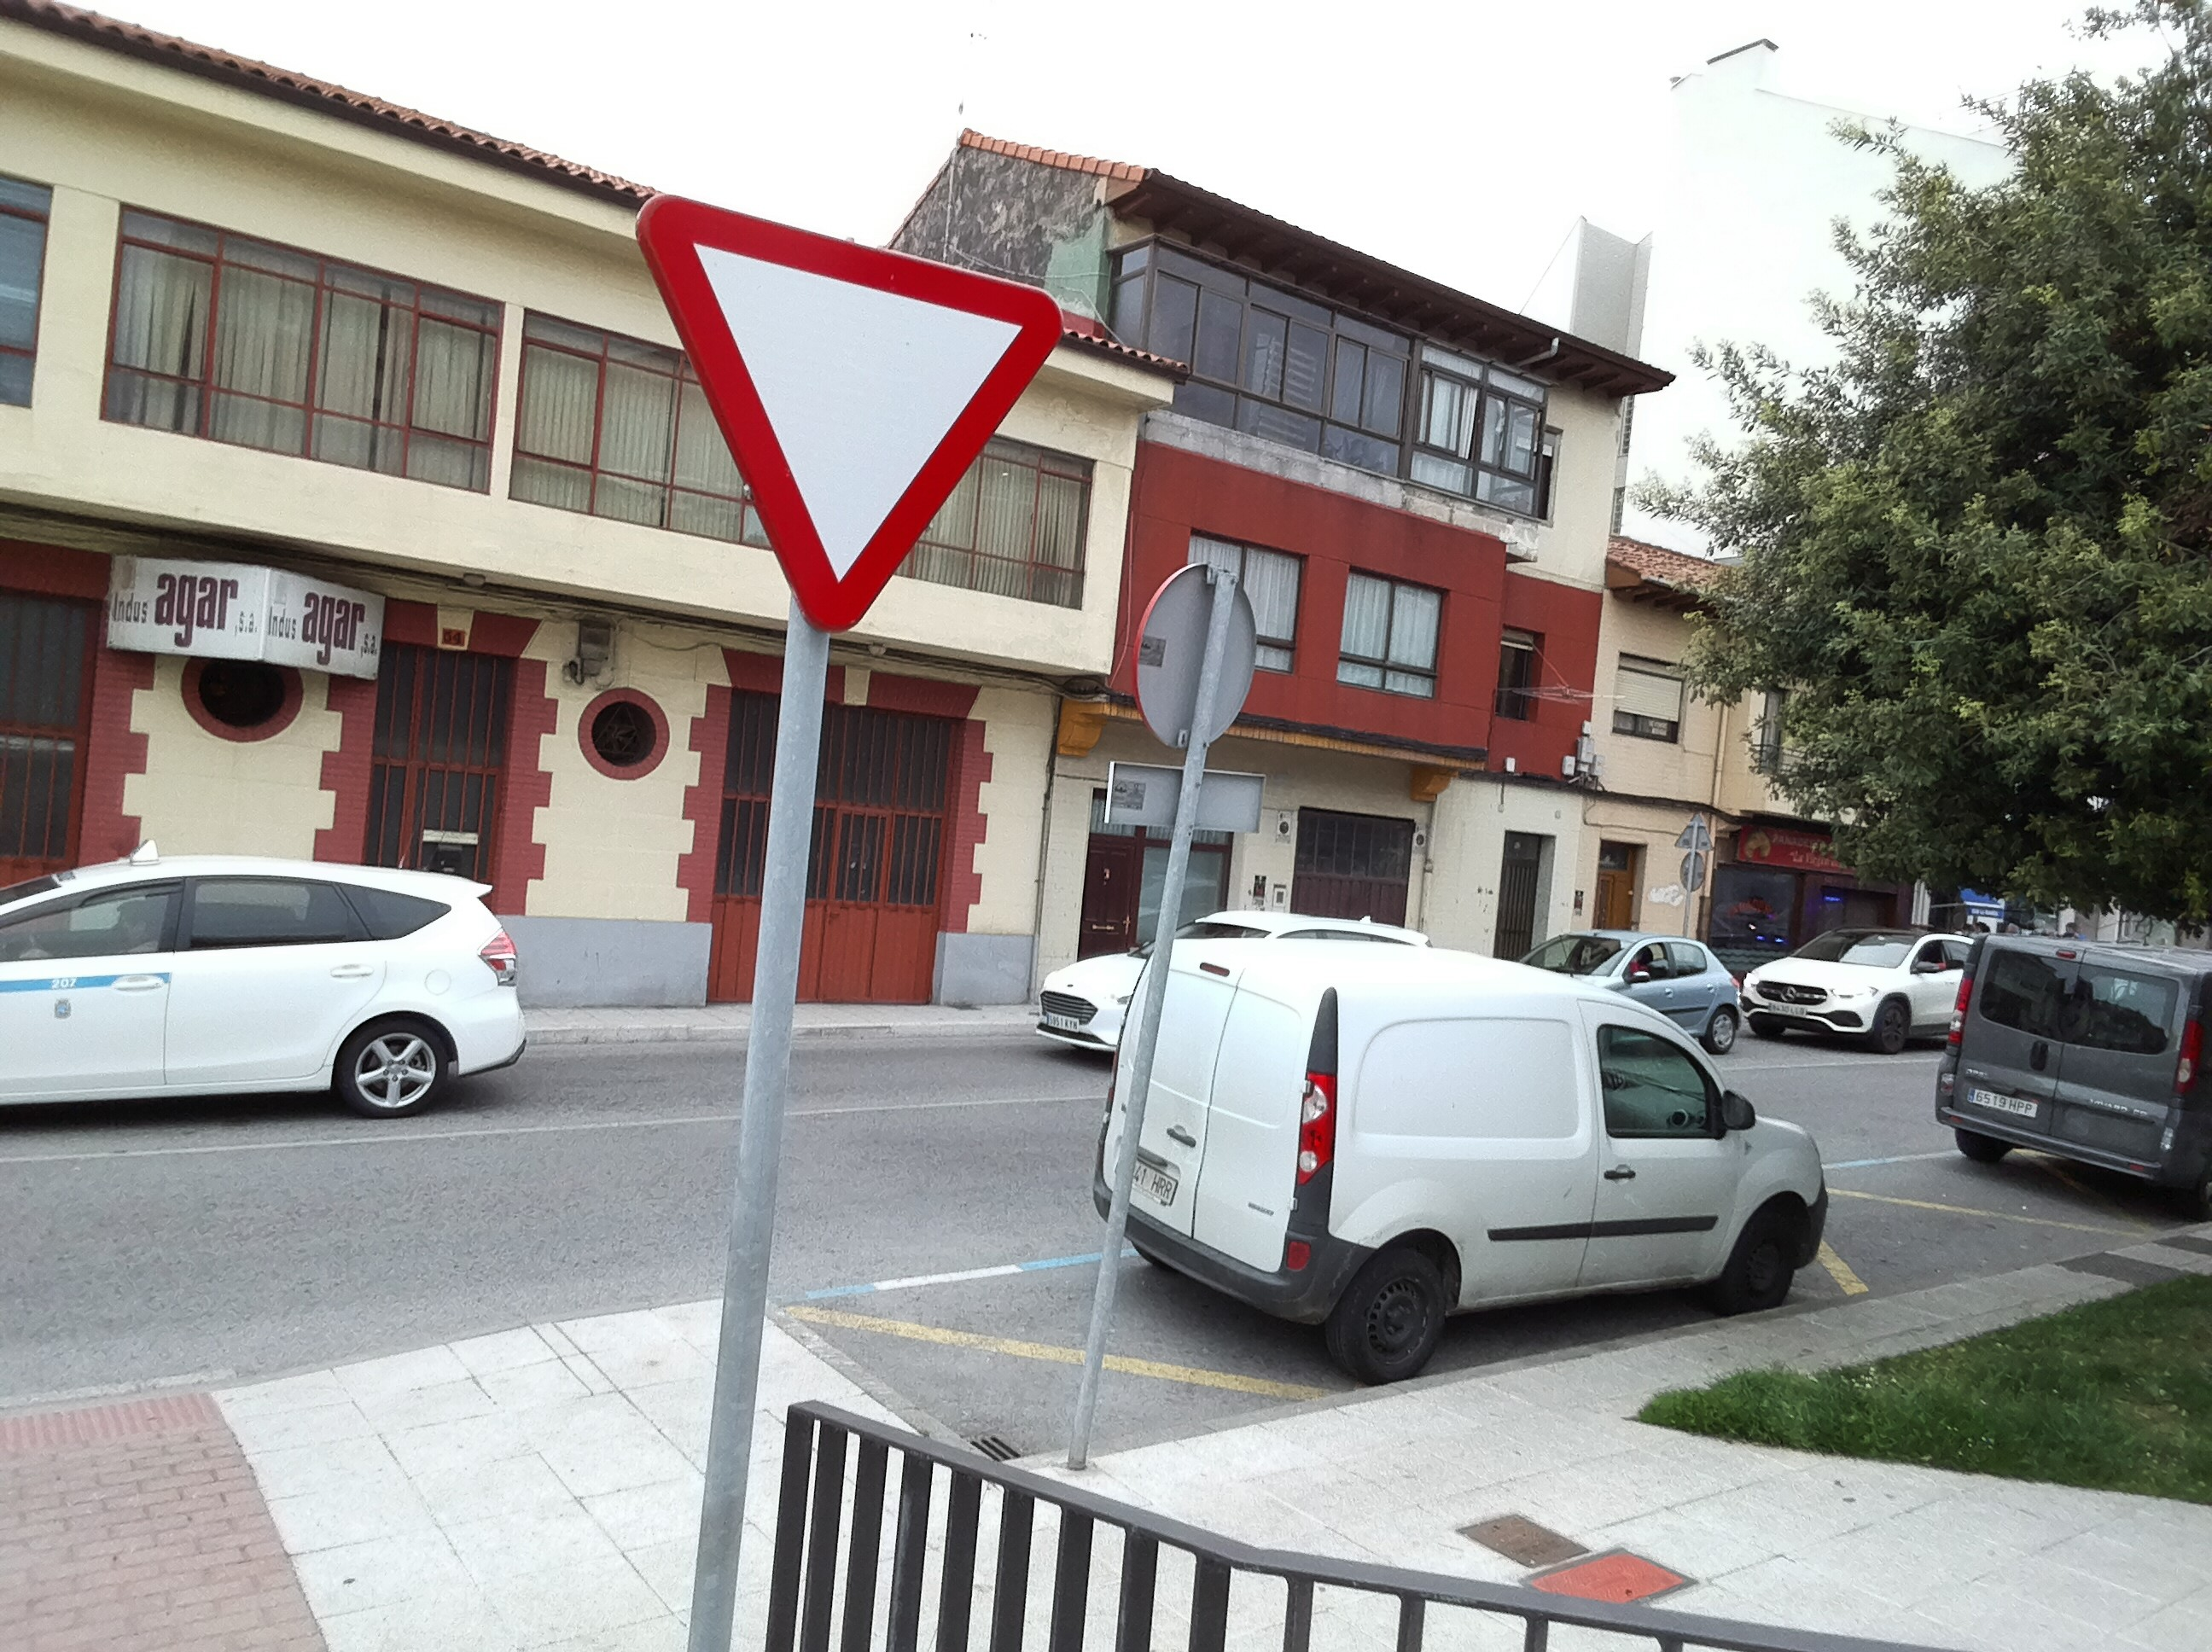Cartel: (605, 184, 1067, 632)
Poste: (1070, 552, 1240, 1475), (701, 555, 819, 1649)
